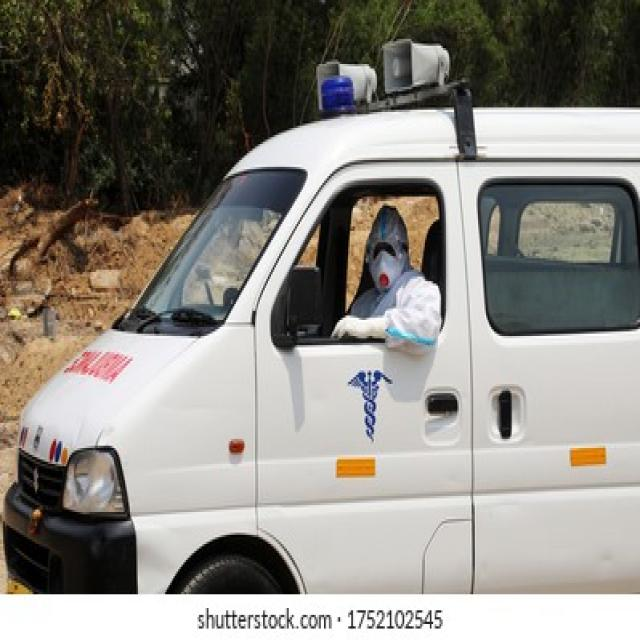ambulance: (4, 90, 640, 592)
